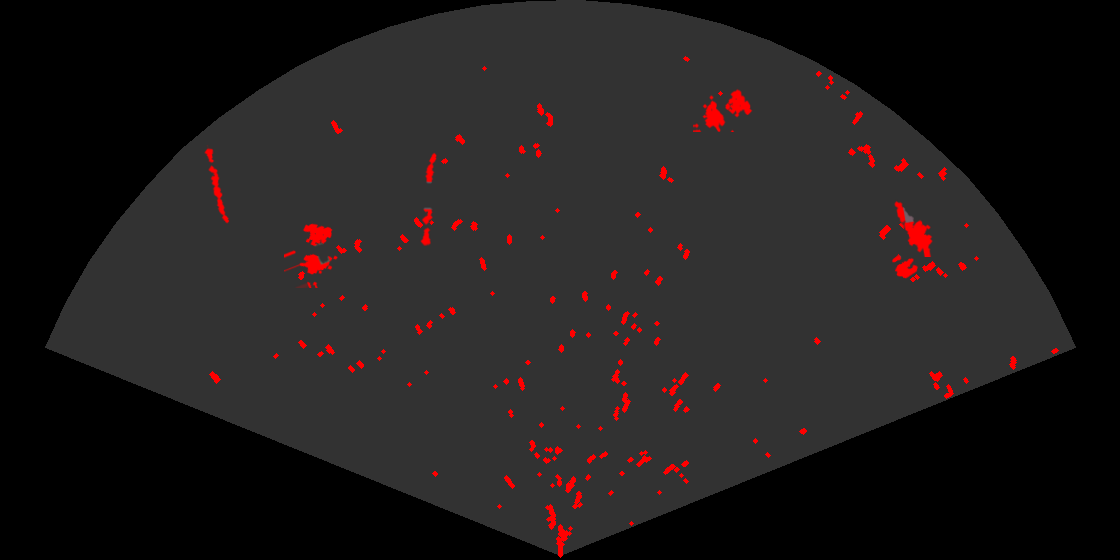ball: (890, 254, 920, 280)
cage: (284, 222, 339, 288), (693, 87, 754, 132)
chain: (203, 145, 231, 225), (419, 151, 438, 246)
frogman: (893, 199, 934, 257)
